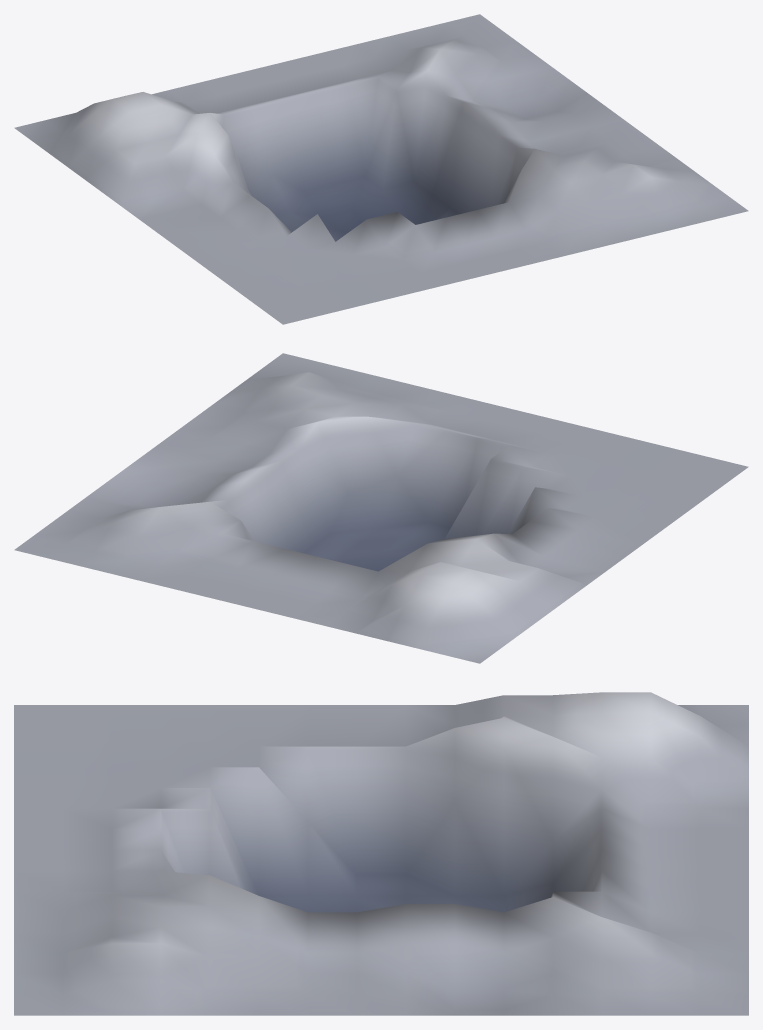
File: Terrain_crater_hills.fbx
3 renders of one model, top to bottom at view 1: azimuth 30°, elevation 25°; view 2: azimuth 150°, elevation 25°; view 3: azimuth 270°, elevation 25°, orthographic. The views are drawn at different scales.
Parts seen in each view (by area): view 1: Terrain_crater_hills; view 2: Terrain_crater_hills; view 3: Terrain_crater_hills.
Part boxes in pixels (x1,y1,x2,y2): Terrain_crater_hills: [14, 14, 748, 324]; Terrain_crater_hills: [14, 353, 748, 663]; Terrain_crater_hills: [14, 692, 748, 1015].
Bounding box in the file's own units: 25 × 6.72 × 25.
